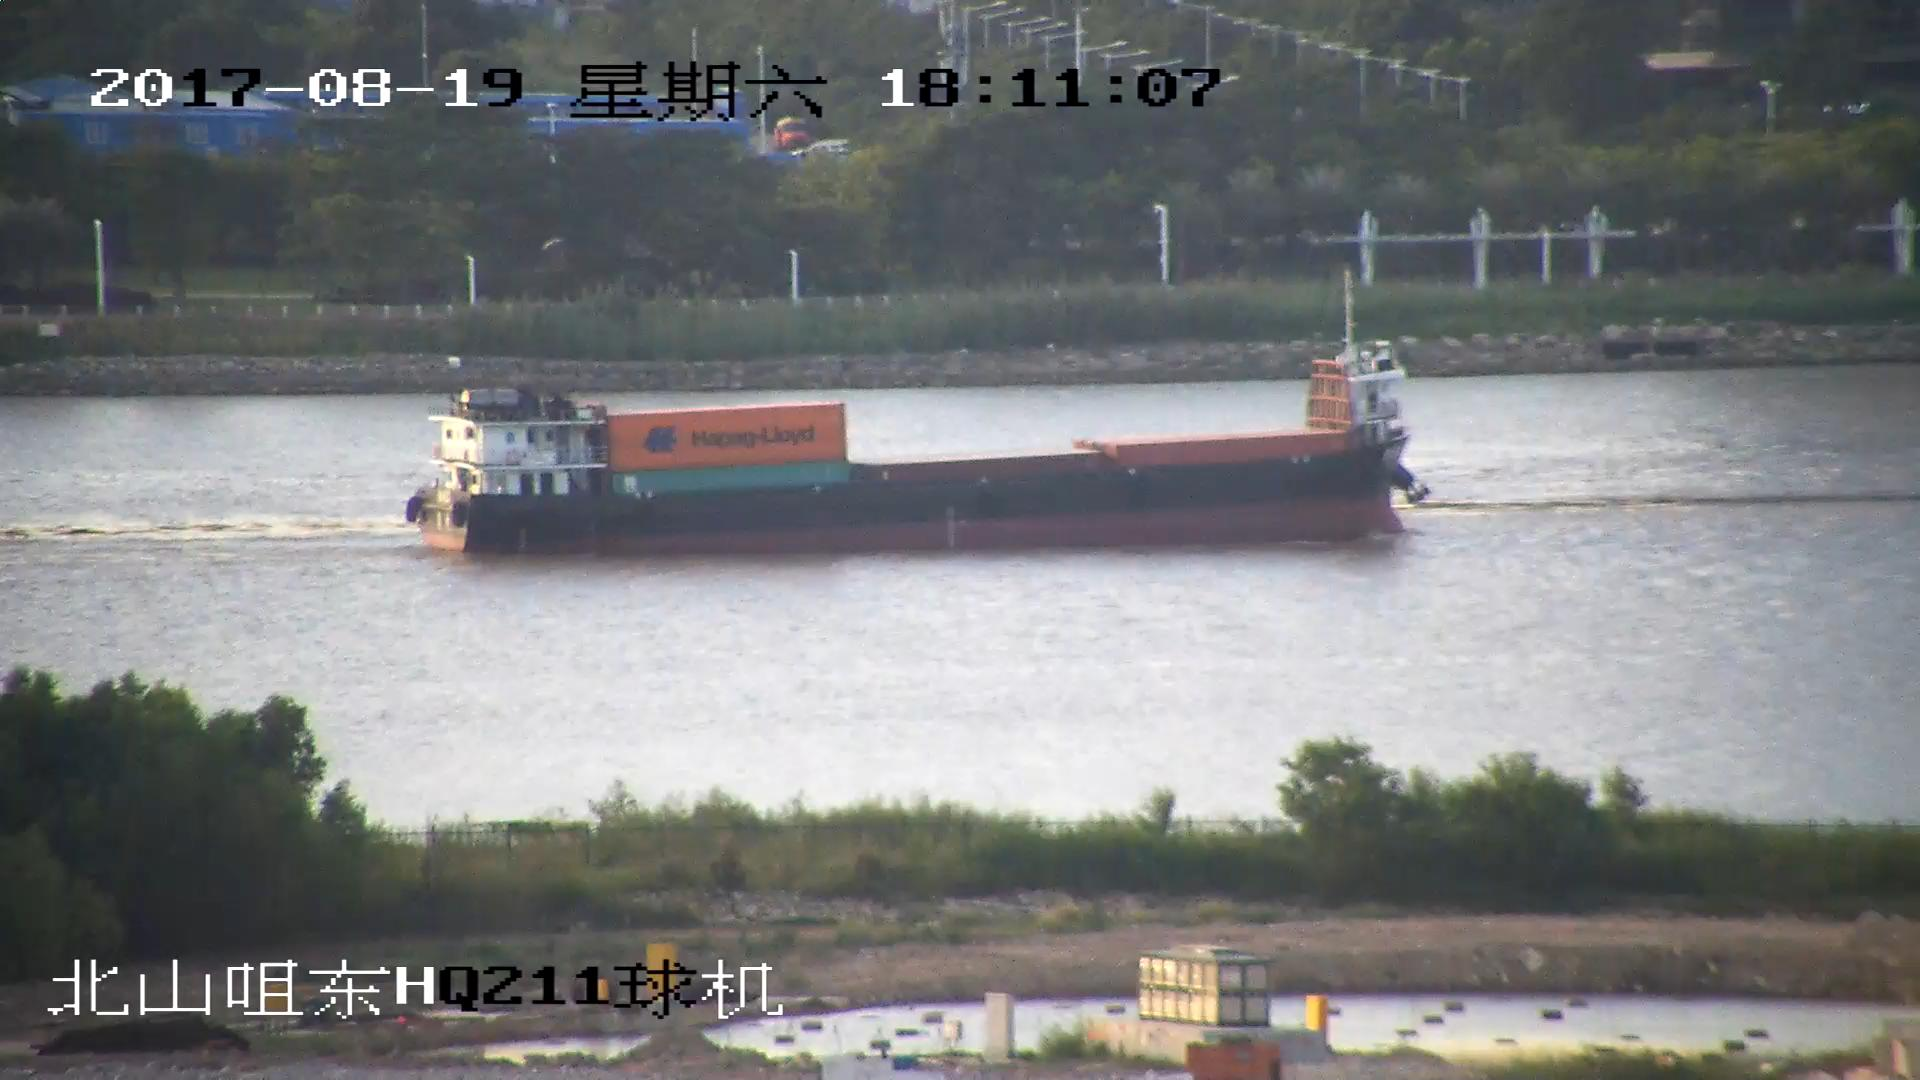container ship: (407, 275, 1422, 561)
